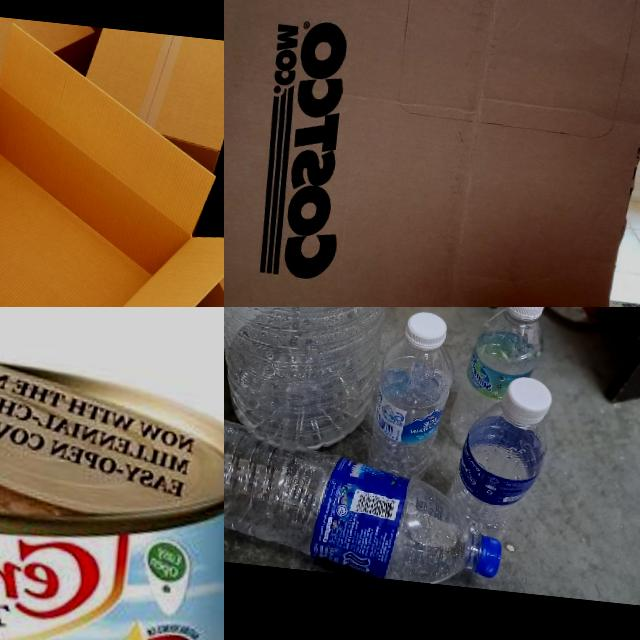garrafa plástica: (0, 7, 224, 307), (224, 414, 486, 587), (224, 307, 403, 457), (444, 399, 551, 544), (448, 307, 545, 449), (368, 336, 456, 484)
lata: (0, 307, 224, 640)
papelão: (224, 0, 640, 307)
tampa plástica: (499, 374, 553, 424), (402, 308, 448, 349), (477, 534, 502, 578), (505, 307, 547, 319)
